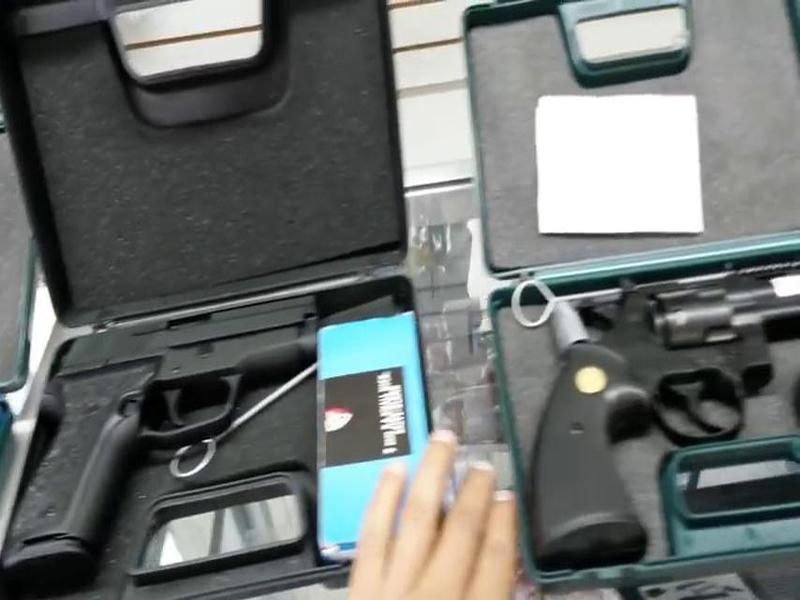Pistola: (17, 300, 356, 548)
